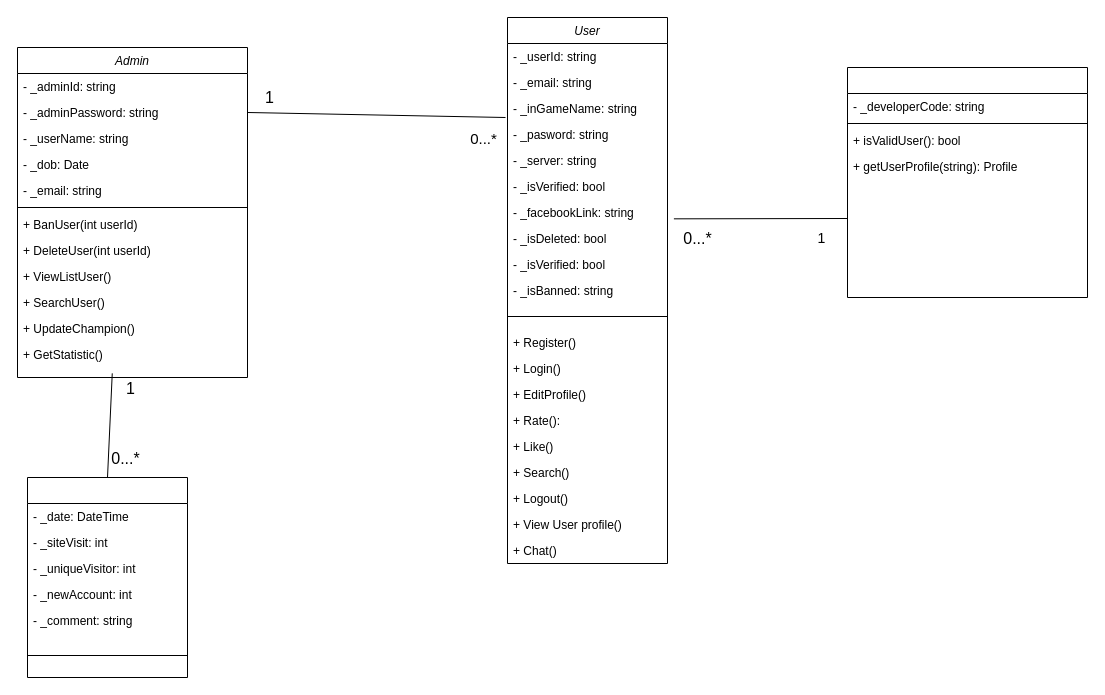
This 1105x695 diagram has some shape labels left out. The box of each missing label's shape, as (x1, y1, x2, y2) in pixels:
RiotAPI: (846, 66, 1088, 298)
WebsiteStatistic: (26, 476, 188, 678)
